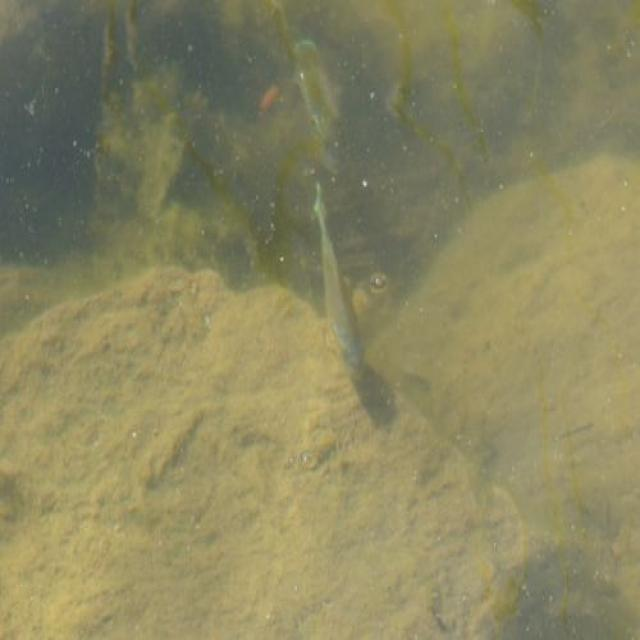Gunes Levregi: (304, 175, 378, 391)
